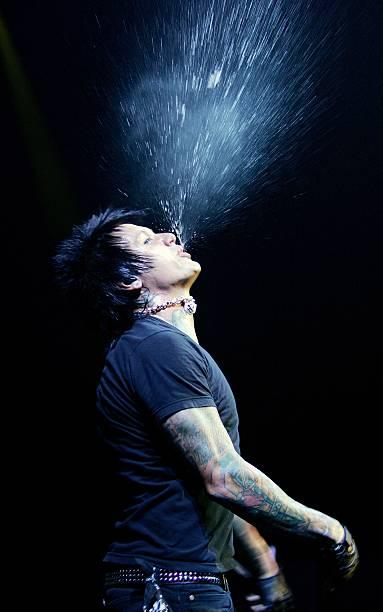Spitting: (46, 153, 248, 324)
